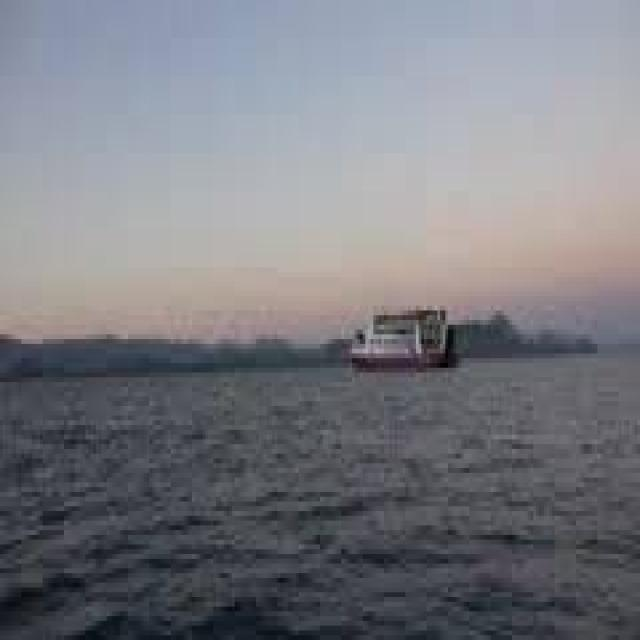houseboat: (342, 276, 452, 373)
